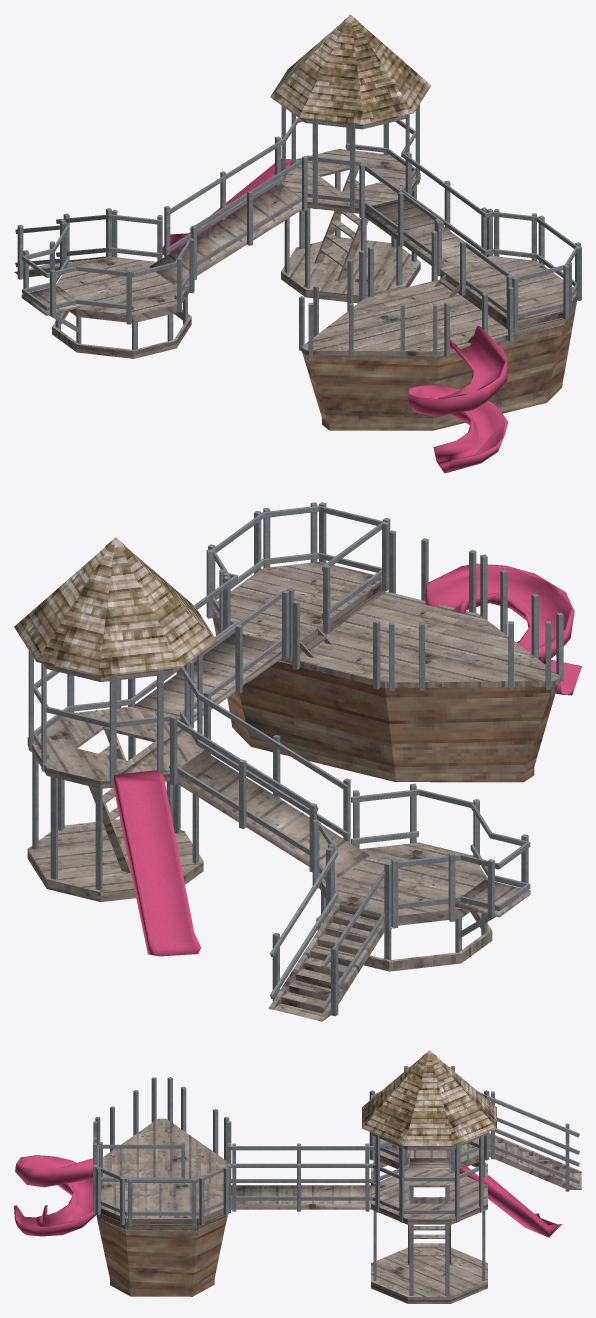
File: Playground.fbx
The picture shows the model from 3 angles, top to bottom: view 1: azimuth 30°, elevation 25°; view 2: azimuth 150°, elevation 25°; view 3: azimuth 270°, elevation 25°; orthographic projection. The views are drawn at different scales.
Parts seen in each view (by area): view 1: Playground; view 2: Playground; view 3: Playground.
Boxes of the visible parts, x1,y1,x2,y2 form: Playground: [14, 14, 581, 473]; Playground: [14, 502, 581, 1021]; Playground: [14, 1050, 581, 1303].
Size of the model in its own units: 666 by 432 by 970.
